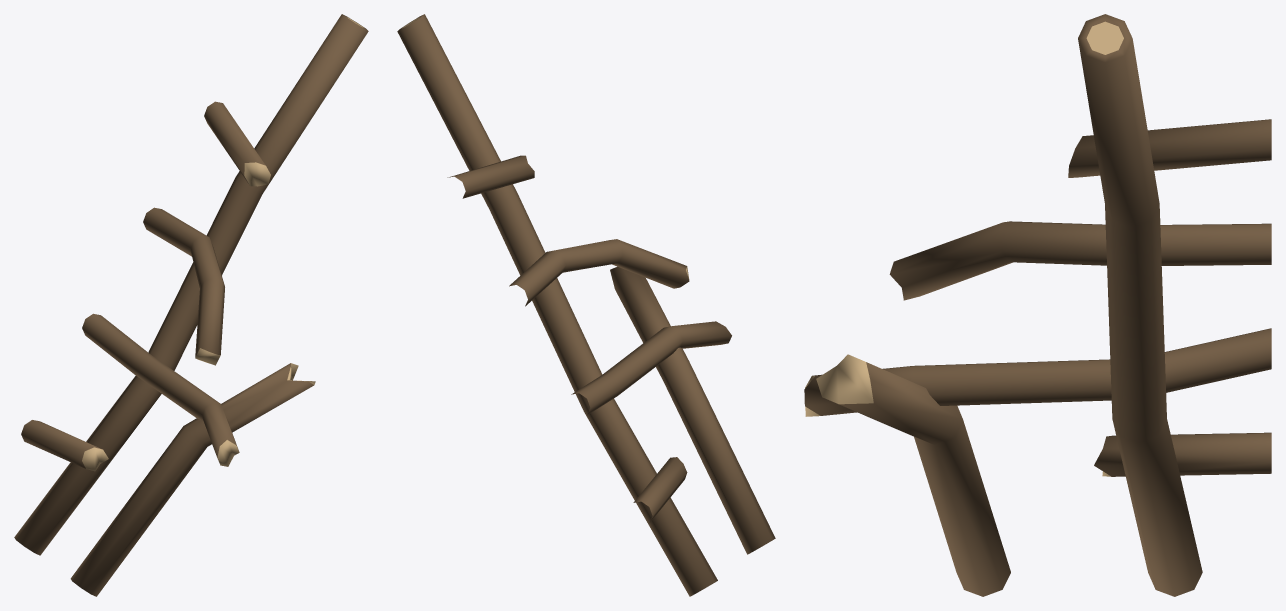
The model's file is rpgpp_av_roof_support_01_6x5x3_half_d.gltf.
3 renders of one model, left to right at view 1: azimuth 30°, elevation 25°; view 2: azimuth 150°, elevation 25°; view 3: azimuth 270°, elevation 25°, orthographic. The views are drawn at different scales.
Visible parts, largest first — view 1: rpgpp_av_roof_support_01_6x5x3_half_d; view 2: rpgpp_av_roof_support_01_6x5x3_half_d; view 3: rpgpp_av_roof_support_01_6x5x3_half_d.
Boxes of the visible parts, x1,y1,x2,y2 form: rpgpp_av_roof_support_01_6x5x3_half_d: (14,14,368,596); rpgpp_av_roof_support_01_6x5x3_half_d: (397,14,775,596); rpgpp_av_roof_support_01_6x5x3_half_d: (804,14,1271,596).
Bounding box in the file's own units: 0.0378 × 0.0529 × 0.0273.
1 material, 1 textured.
